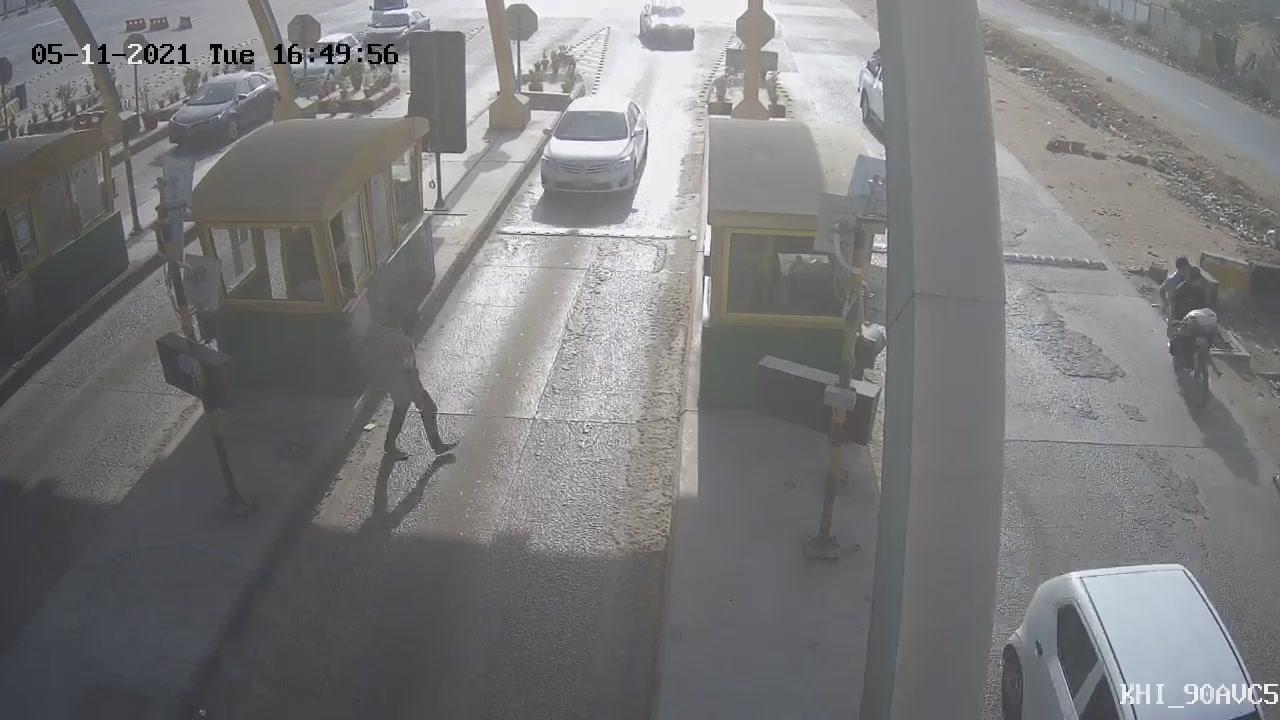F1: (520, 83, 663, 213)
